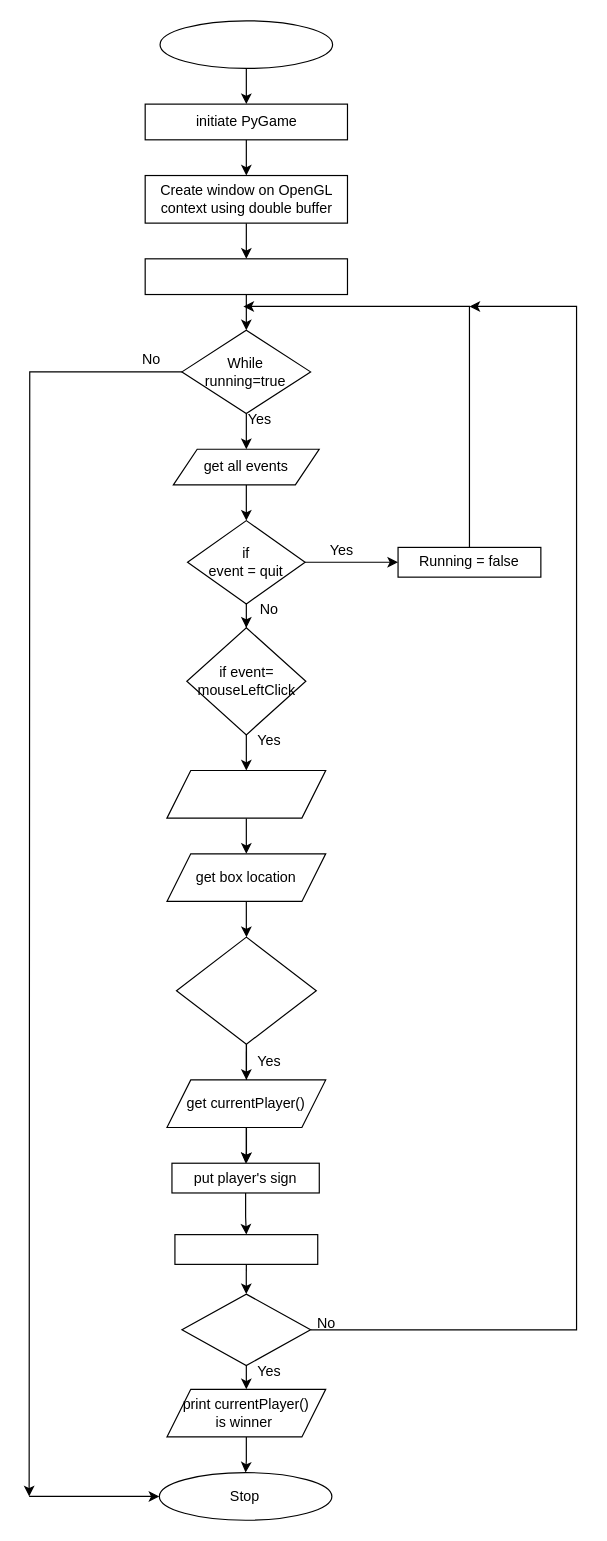
The diagram is 607 pixels wide and 1541 high, and some of its shapes have lost their labels. The box of each missing label's shape, as (x1, y1, x2, y2) in pixels:
check win(): (174, 1233, 318, 1264)
Get mouse position: (166, 769, 326, 818)
if ValMap [boxLoacation] =0: (175, 936, 316, 1044)
if won: (181, 1293, 311, 1366)
Initiate game state: (144, 258, 347, 295)
Start: (159, 20, 333, 68)
